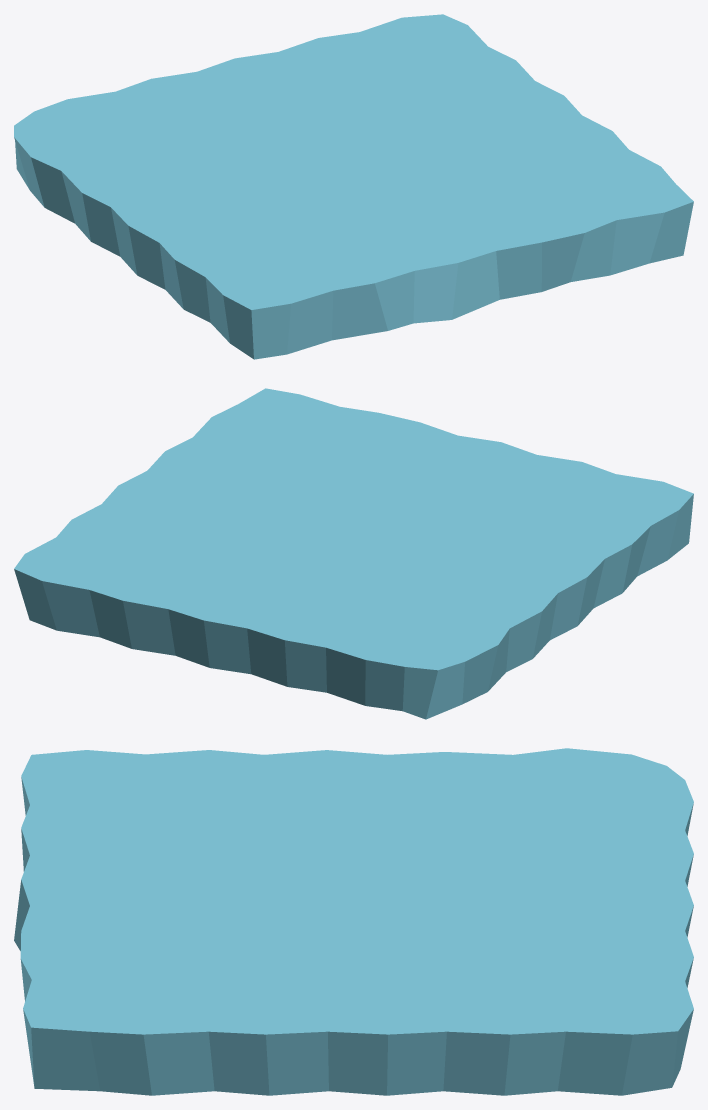
File: IcePlatform_Square.fbx
3 renders of one model, top to bottom at view 1: azimuth 30°, elevation 25°; view 2: azimuth 150°, elevation 25°; view 3: azimuth 270°, elevation 25°, orthographic. The views are drawn at different scales.
Visible parts, largest first — view 1: Square Platform seamless - environment; view 2: Square Platform seamless - environment; view 3: Square Platform seamless - environment.
Boxes of the visible parts, x1=… form: Square Platform seamless - environment: x1=14, y1=14, x2=693, y2=359; Square Platform seamless - environment: x1=14, y1=388, x2=693, y2=719; Square Platform seamless - environment: x1=14, y1=748, x2=693, y2=1095.
Size of the model in its own units: 91.84 by 9.99 by 92.17.
